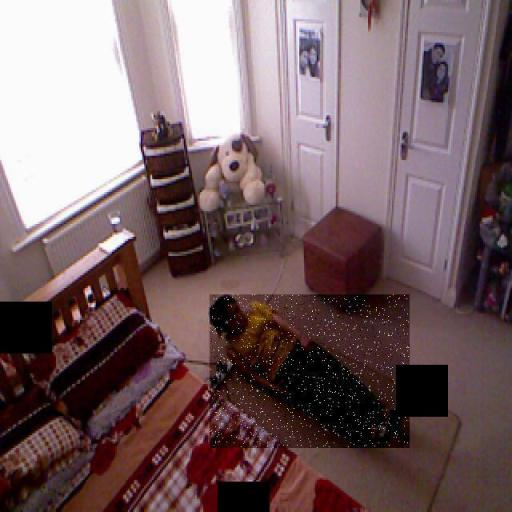Fall: (210, 294, 410, 448)
